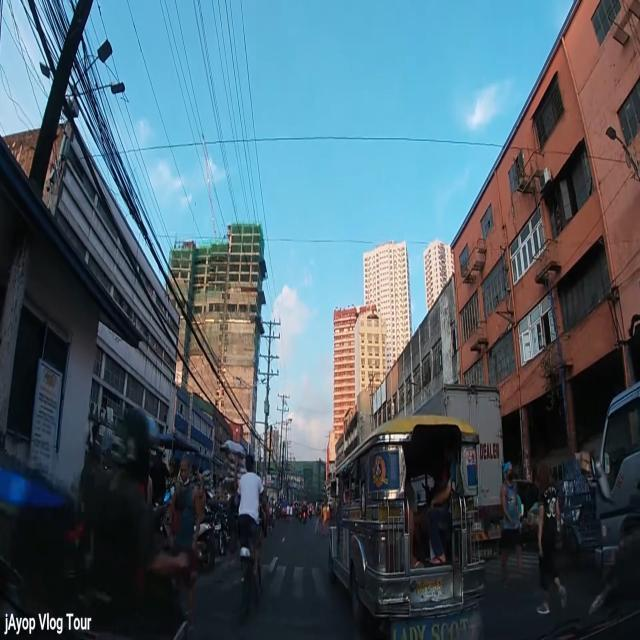bike: (237, 451, 270, 624)
jeepney: (328, 415, 484, 640)
motorcycle: (0, 404, 198, 640), (212, 493, 229, 557), (302, 499, 308, 526)
truck: (411, 384, 506, 564), (593, 381, 640, 585)
